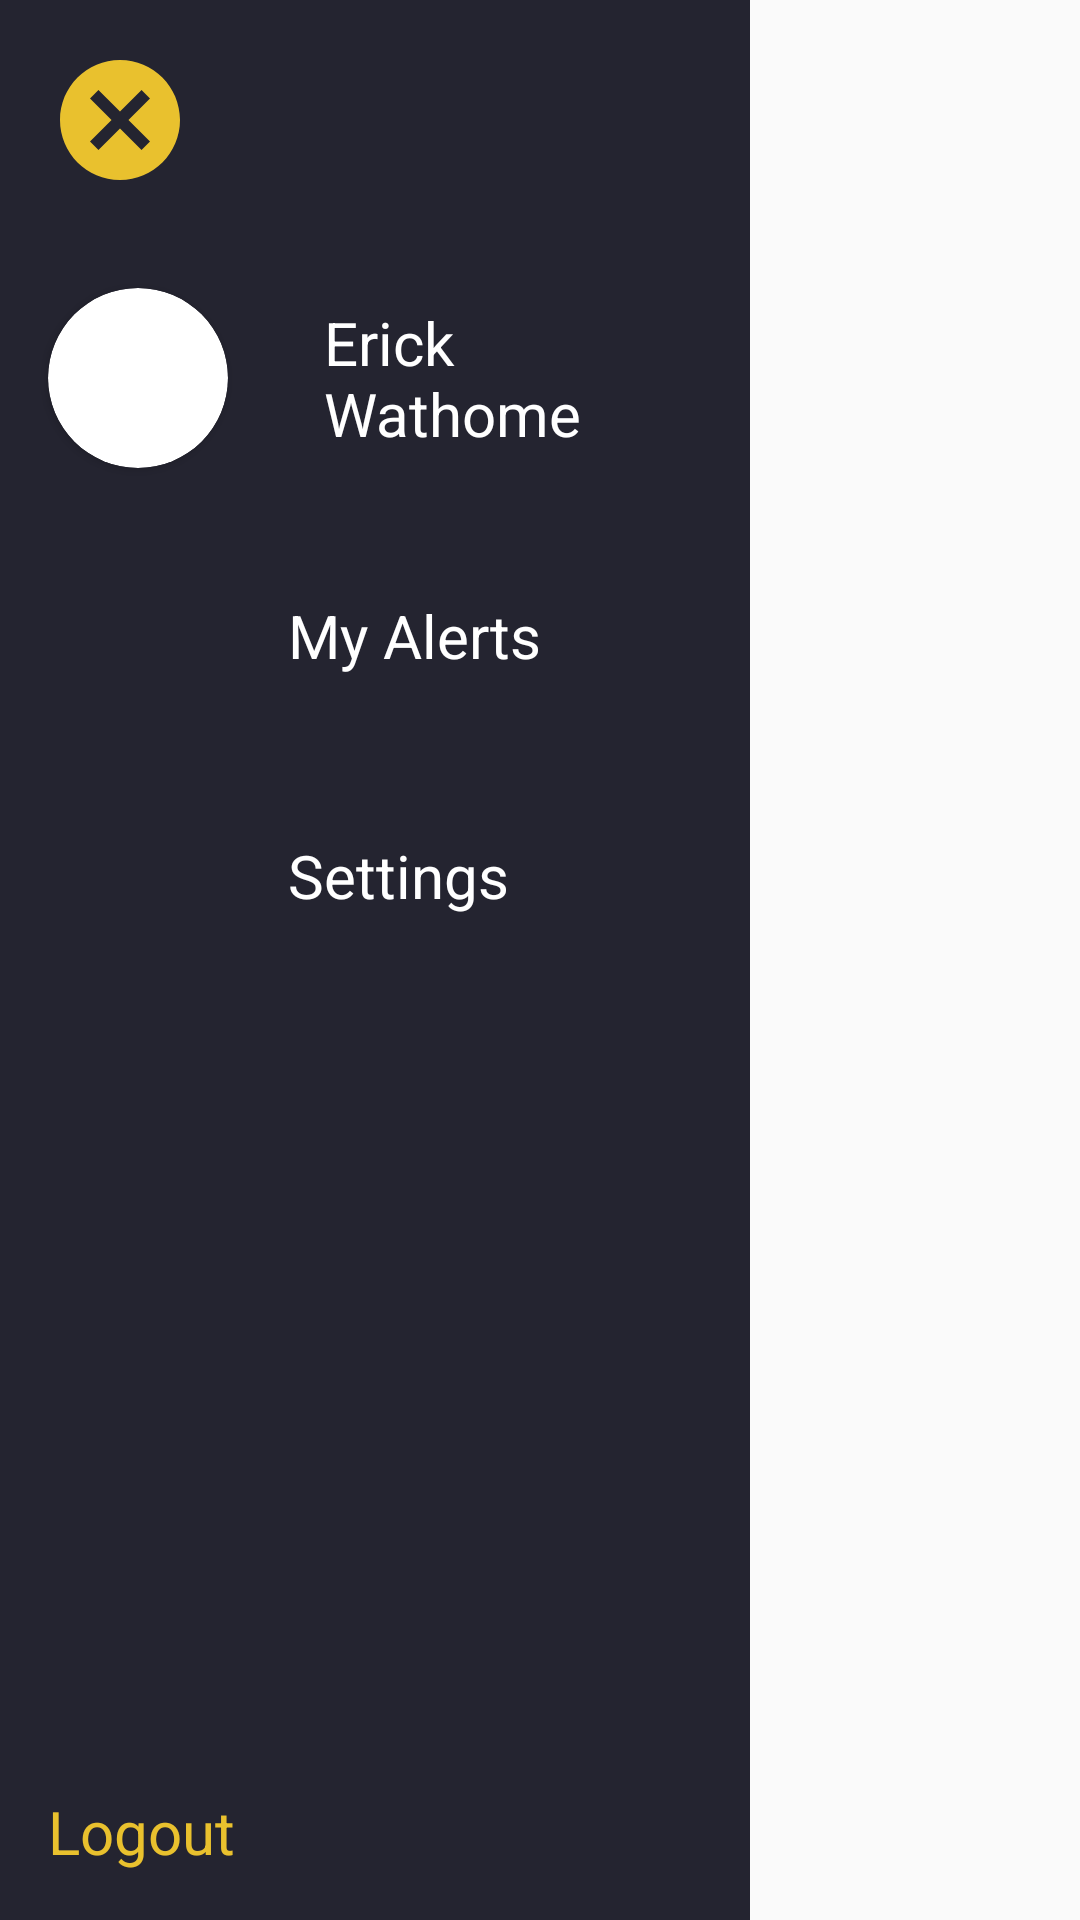

Icons on this 1080px×1920px Android screen, each with the point to tap as [x,y]:
cancel: [120,120]
